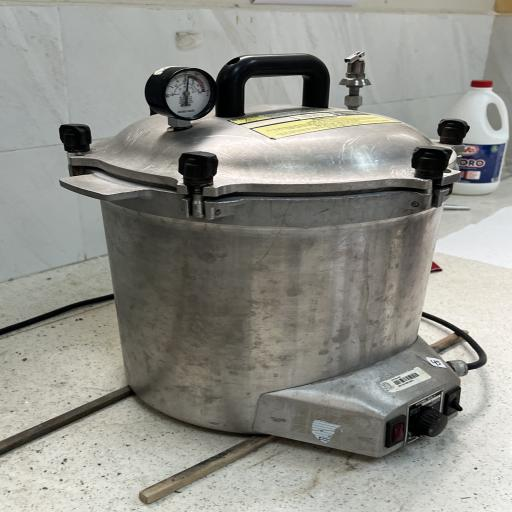Autoclave: (48, 43, 478, 466)
